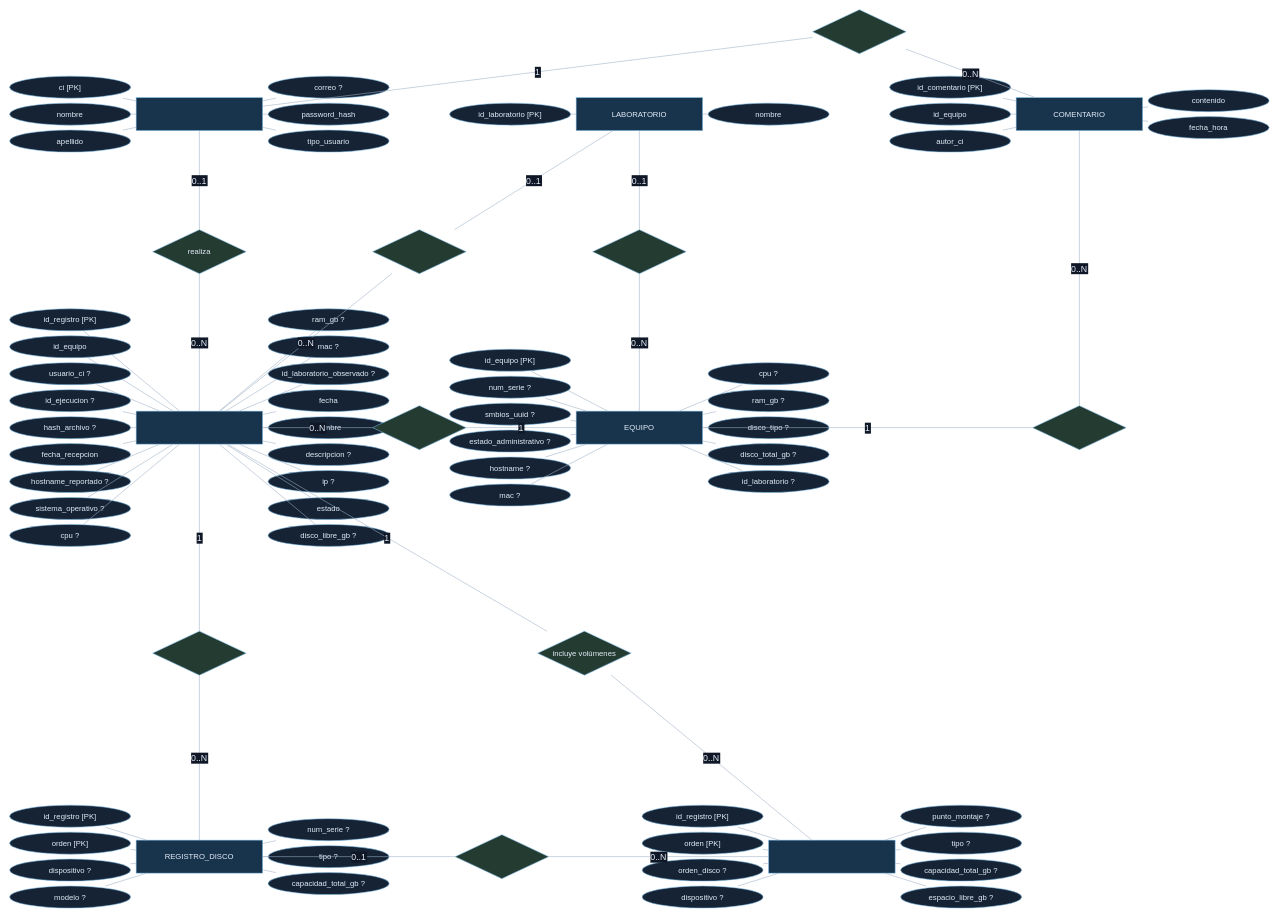
The diagram is 1279 pixels wide and 918 high, and some of its shapes have lost their labels. The centre of each missing label's shape, as x and y in pixels:
"asocia volumen" belongs at (x=502, y=856).
"contiene" belongs at (x=639, y=251).
"escribe" belongs at (x=859, y=31).
"incluye discos" belongs at (x=199, y=653).
"observado en" belongs at (x=419, y=251).
"recibe" belongs at (x=1079, y=427).
"REGISTRO" belongs at (x=199, y=427).
"REGISTRO_SISTEMA_ARCHIVOS" belongs at (x=831, y=856).
"tiene capturas" belongs at (x=419, y=427).
"USUARIOS" belongs at (x=199, y=114).
